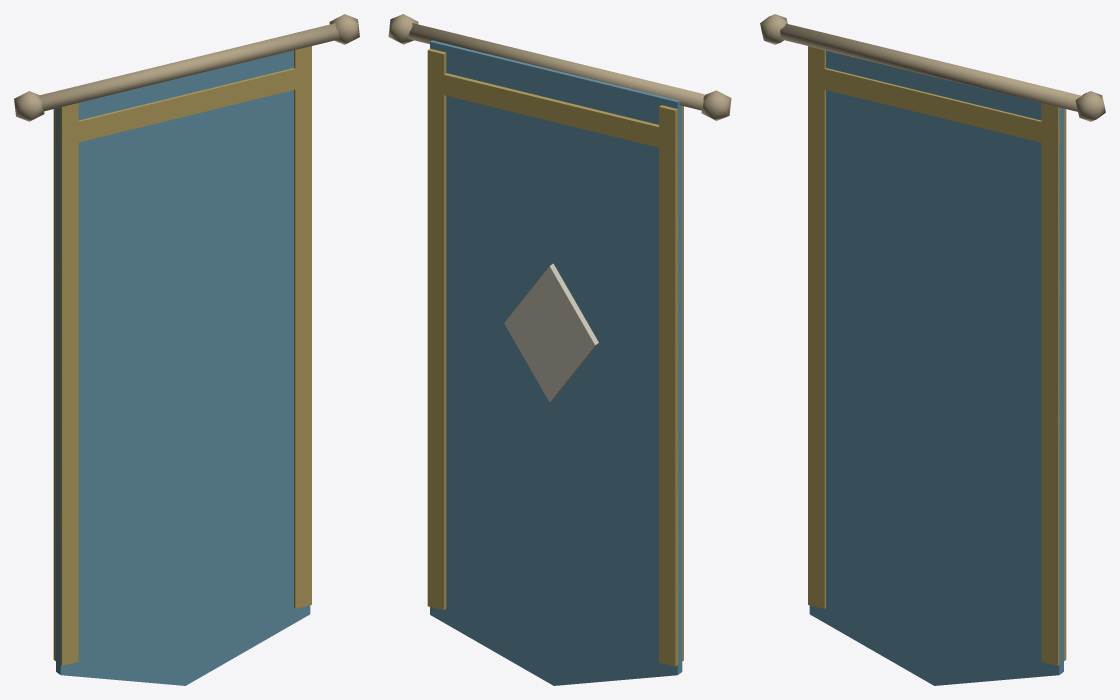
Rendered from spiked_ice_slime_banner_v0.glb.
The picture shows the model from 3 angles, left to right: view 1: azimuth 30°, elevation 25°; view 2: azimuth 150°, elevation 25°; view 3: azimuth 330°, elevation 25°; orthographic projection.
Parts seen in each view (by area): view 1: spiked_ice_slime_banner_v0; view 2: spiked_ice_slime_banner_v0; view 3: spiked_ice_slime_banner_v0.
Boxes of the visible parts, bbox=[...] form: spiked_ice_slime_banner_v0: bbox=[14, 14, 359, 685]; spiked_ice_slime_banner_v0: bbox=[388, 14, 731, 685]; spiked_ice_slime_banner_v0: bbox=[760, 14, 1105, 685].
Bounding box in the file's own units: 1.04 × 1.84 × 0.0933.
